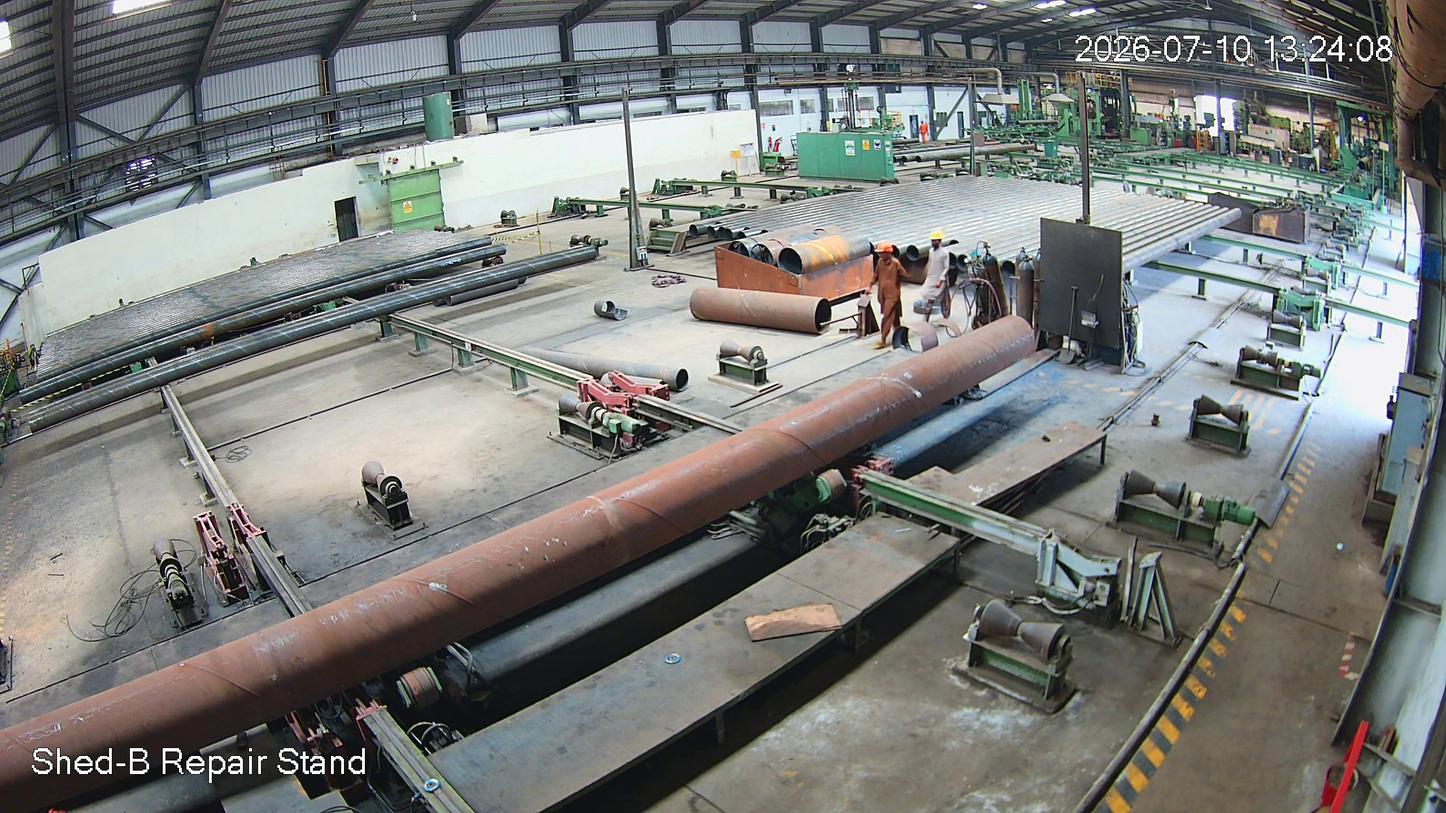Helmet: (874, 242, 898, 267), (926, 225, 947, 252)
Person: (867, 246, 905, 345), (919, 229, 952, 320)
